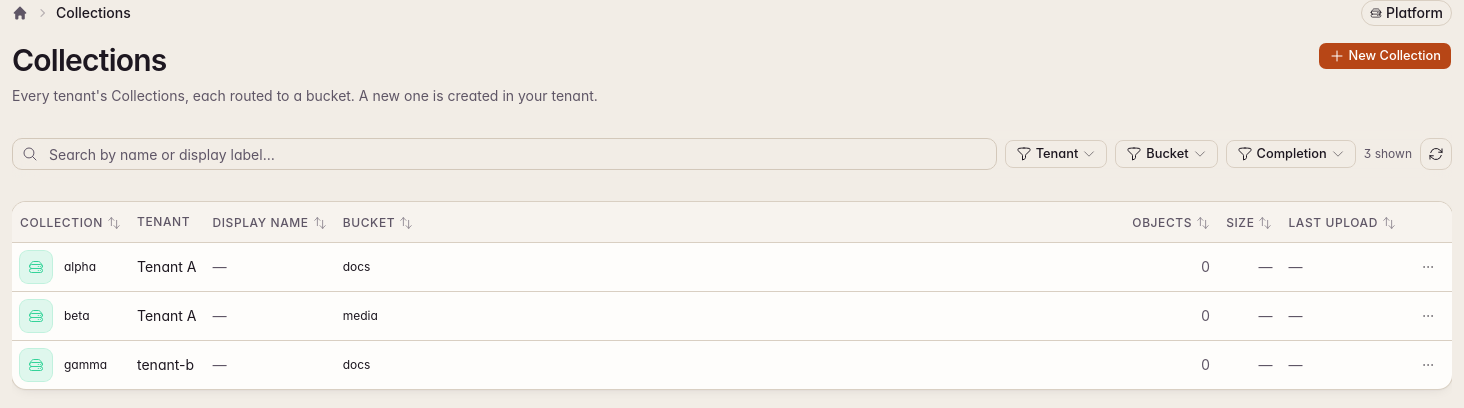
CollectionsPage facets › narrows to a bucket, by tenant name and by bucket in words
Click the button with aria-label "Filter by bucket" at [1166, 154], box [1115, 140, 1218, 168]
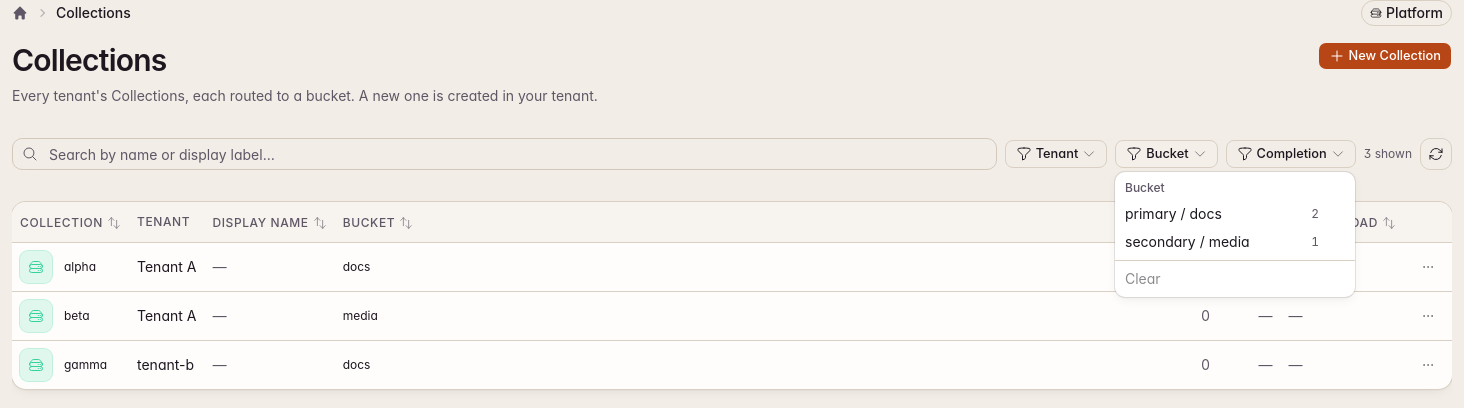
Click the menu item with aria-label "primary / docs, 2 rows" at [1222, 214], box [1125, 205, 1319, 222]
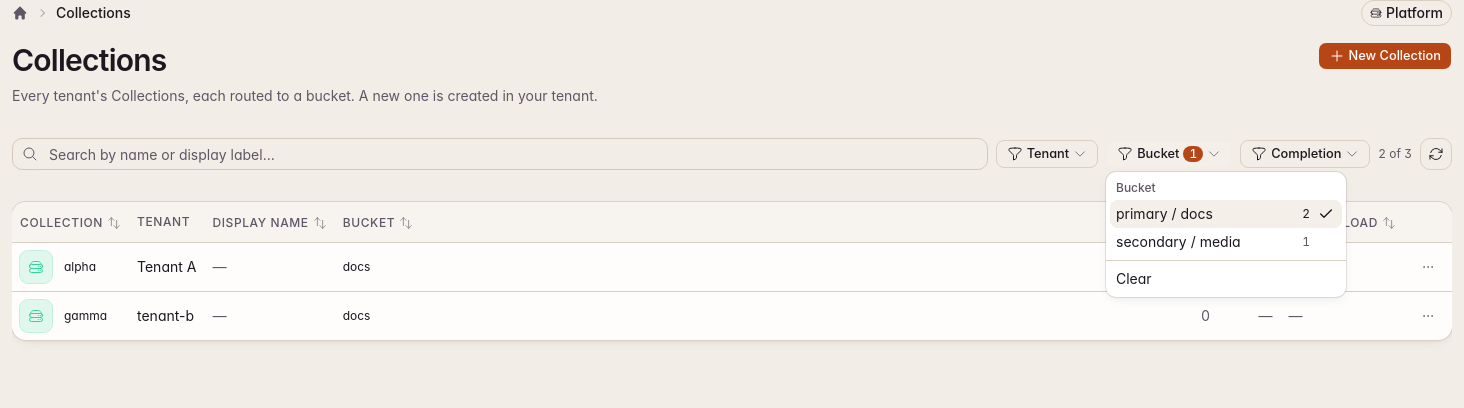
Check: the link "alpha" is shown, box [64, 258, 96, 274]
Check: the link "beta" is gone
Press Escape
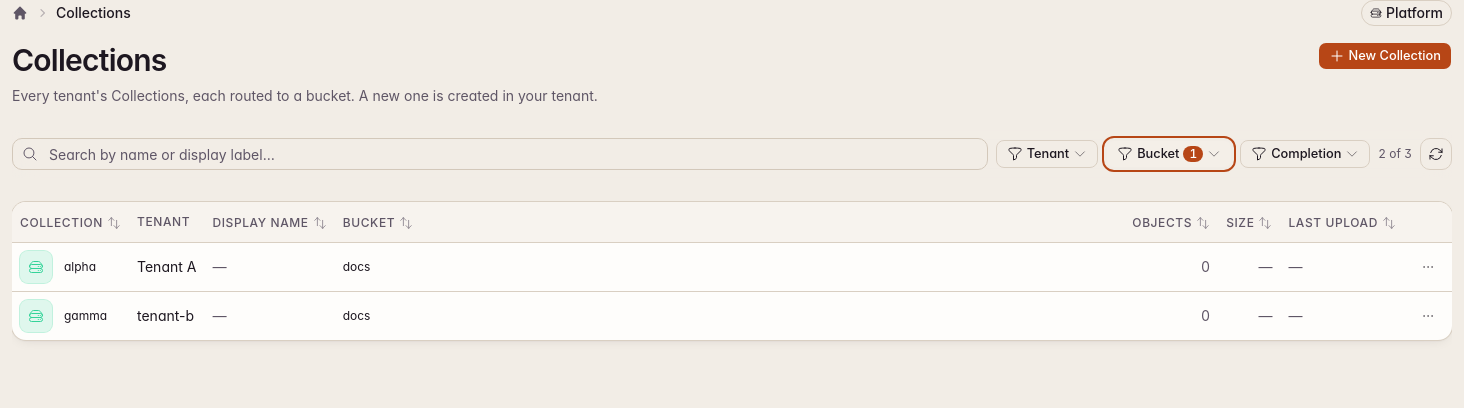
Click the button with aria-label "Filter by tenant" at [1047, 154], box [996, 140, 1098, 168]
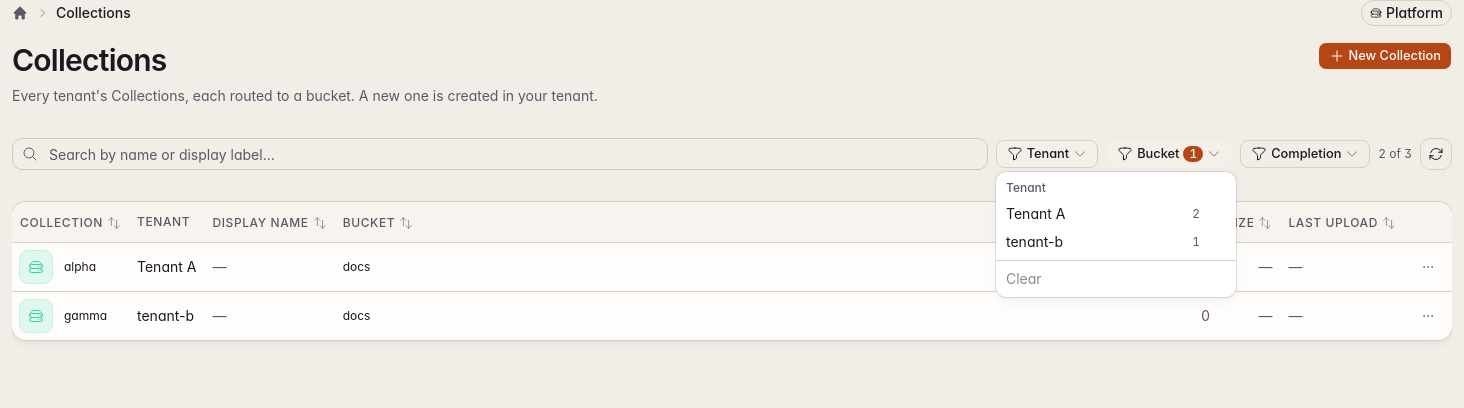
Check: the menu item with aria-label "Tenant A, 2 rows" is shown, box [1006, 205, 1200, 222]
Check: the menu item with aria-label "tenant-b, 1 row" is shown, box [1006, 233, 1200, 250]
